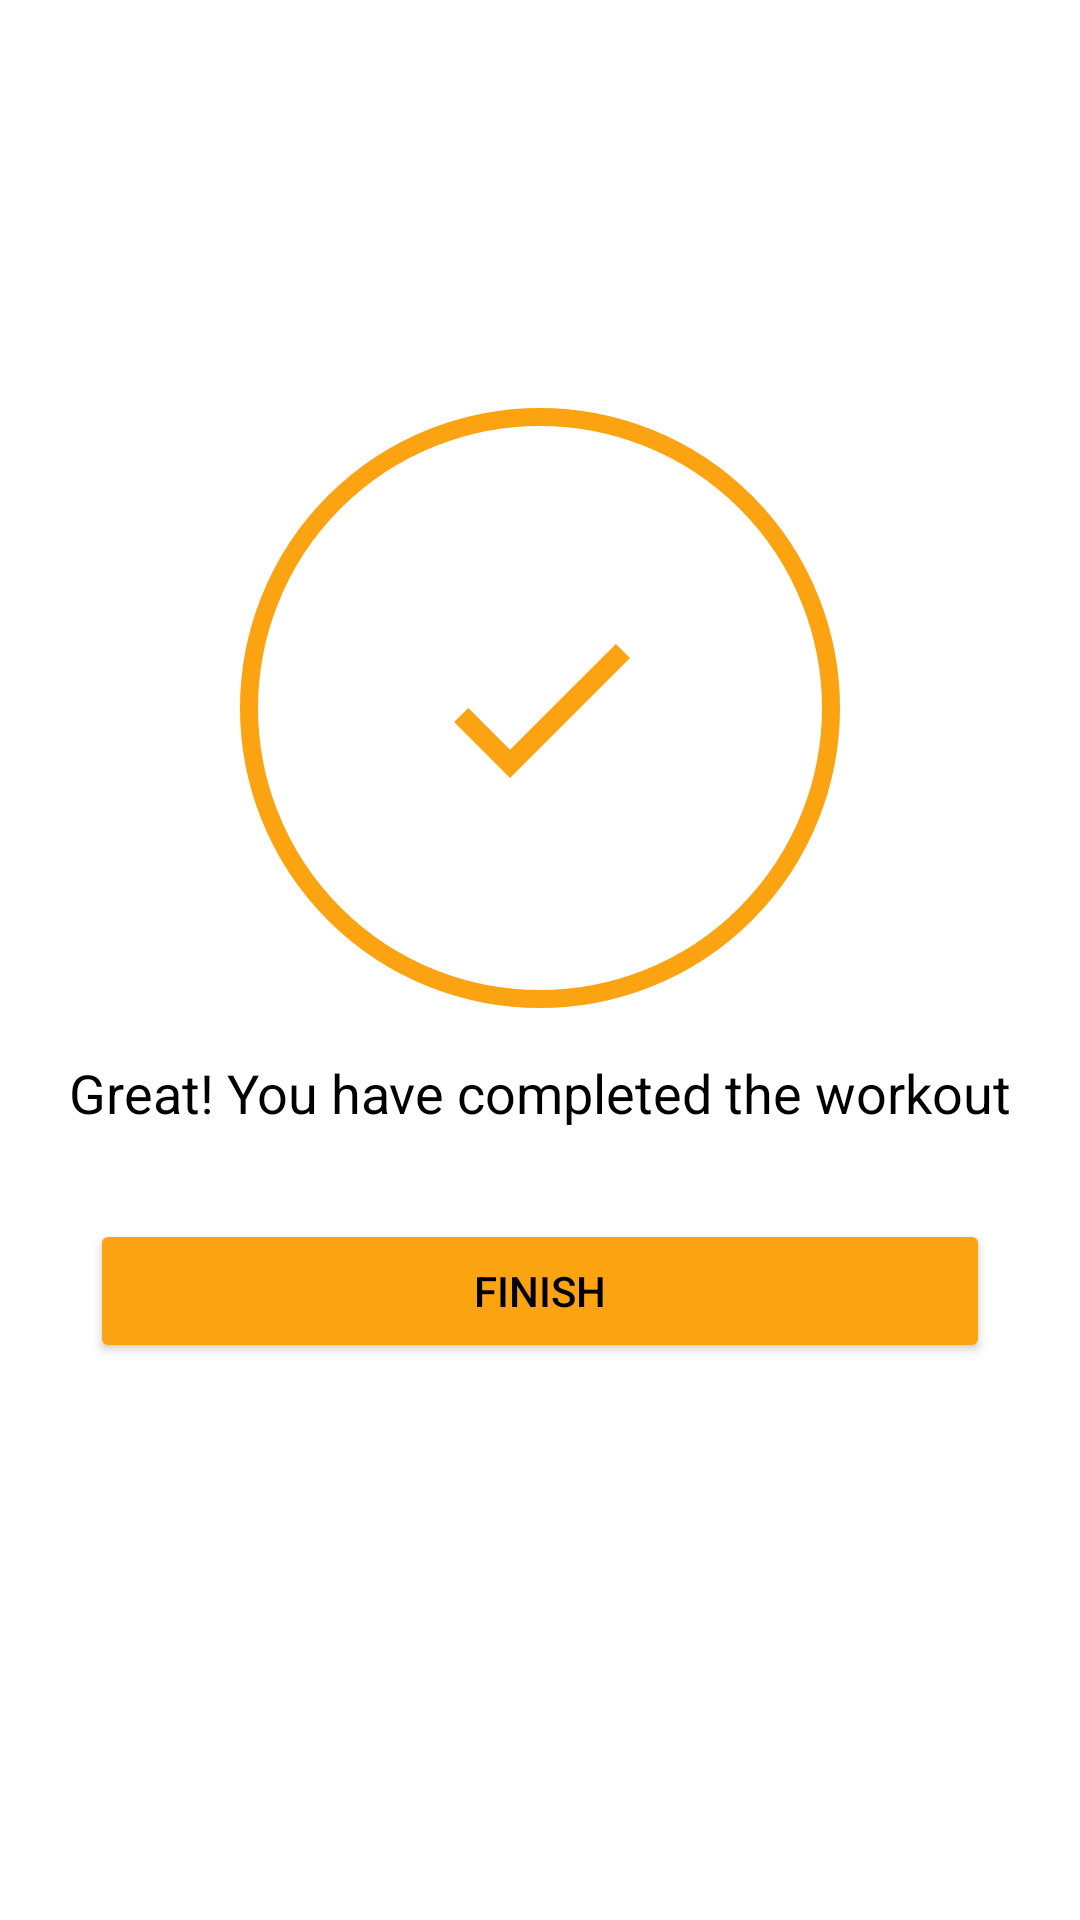

Point at icon controls on the screen. Image size 1080 x 1920, points as point (x, y).
check: point (542, 711)
